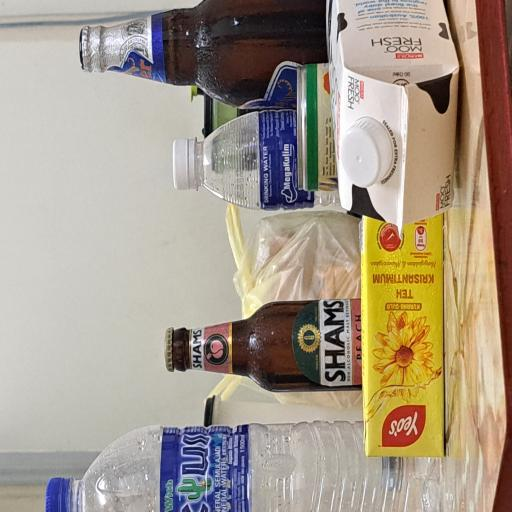can: (241, 388, 337, 476)
drink carton: (213, 431, 384, 512), (42, 480, 238, 512)
glass bottle: (303, 102, 384, 465), (89, 220, 163, 504)
plastic bottle: (0, 101, 71, 512), (228, 268, 304, 477)
plastic bottle cap: (242, 449, 292, 512), (241, 229, 281, 265), (0, 58, 27, 92)
